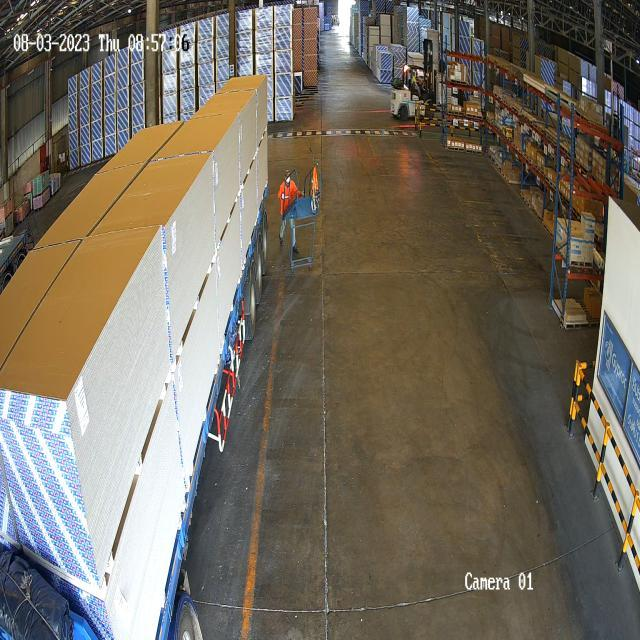forklift: (390, 60, 430, 120)
person: (278, 170, 302, 209)
